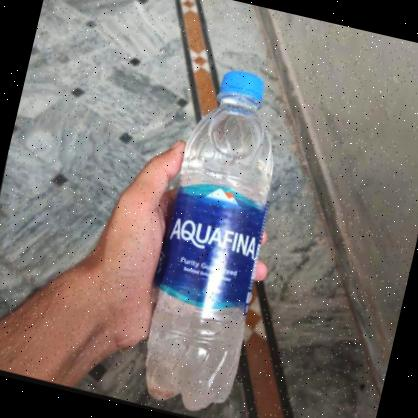bottle: (122, 61, 299, 418)
cap: (214, 67, 268, 110)
label: (151, 183, 268, 316)
